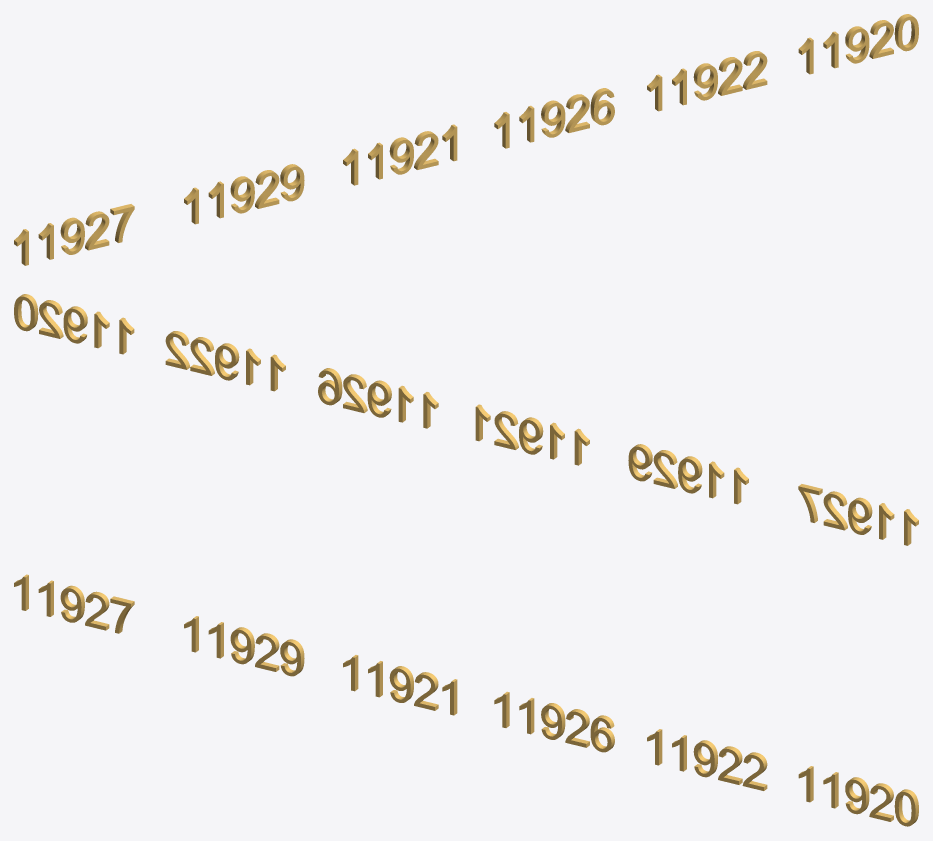
File: Scenario 3_house numbers.fbx
3 renders of one model, top to bottom at view 1: azimuth 30°, elevation 25°; view 2: azimuth 150°, elevation 25°; view 3: azimuth 330°, elevation 25°, orthographic.
Visible parts, largest first — view 1: Text008, Text006, Text010, Text009, Text005, Text007; view 2: Text008, Text006, Text010, Text009, Text005, Text007; view 3: Text008, Text006, Text010, Text009, Text005, Text007.
Part boxes in pixels (bbox=[...]): Text008: bbox=[494, 88, 614, 148]; Text006: bbox=[184, 164, 304, 224]; Text010: bbox=[798, 14, 918, 74]; Text009: bbox=[647, 51, 767, 111]; Text005: bbox=[14, 204, 134, 265]; Text007: bbox=[343, 124, 457, 185]; Text008: bbox=[318, 368, 438, 428]; Text006: bbox=[628, 444, 748, 504]; Text010: bbox=[14, 294, 134, 354]; Text009: bbox=[165, 331, 285, 391]; Text005: bbox=[798, 484, 918, 545]; Text007: bbox=[475, 404, 589, 465]; Text008: bbox=[494, 691, 614, 752]; Text006: bbox=[184, 616, 304, 676]; Text010: bbox=[798, 766, 918, 826]; Text009: bbox=[647, 729, 767, 790]; Text005: bbox=[14, 574, 134, 633]; Text007: bbox=[343, 655, 457, 715].
Bounding box in the file's own units: 4966 × 180 × 32.5.
